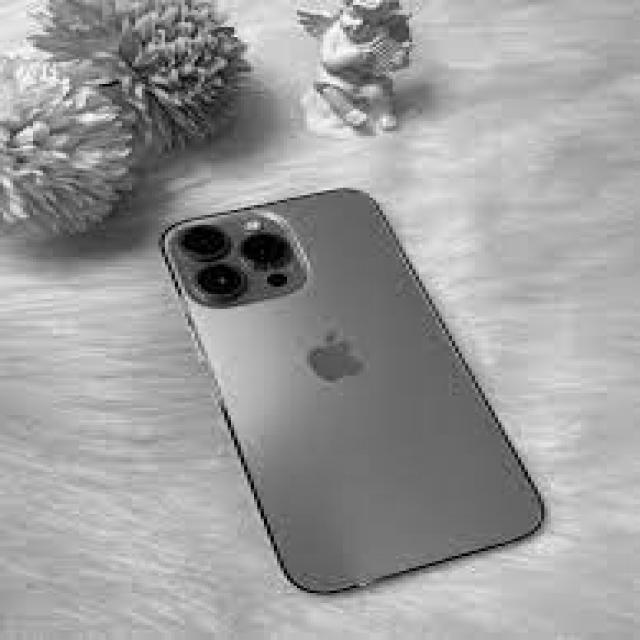No gun_phone: (165, 183, 545, 597)
